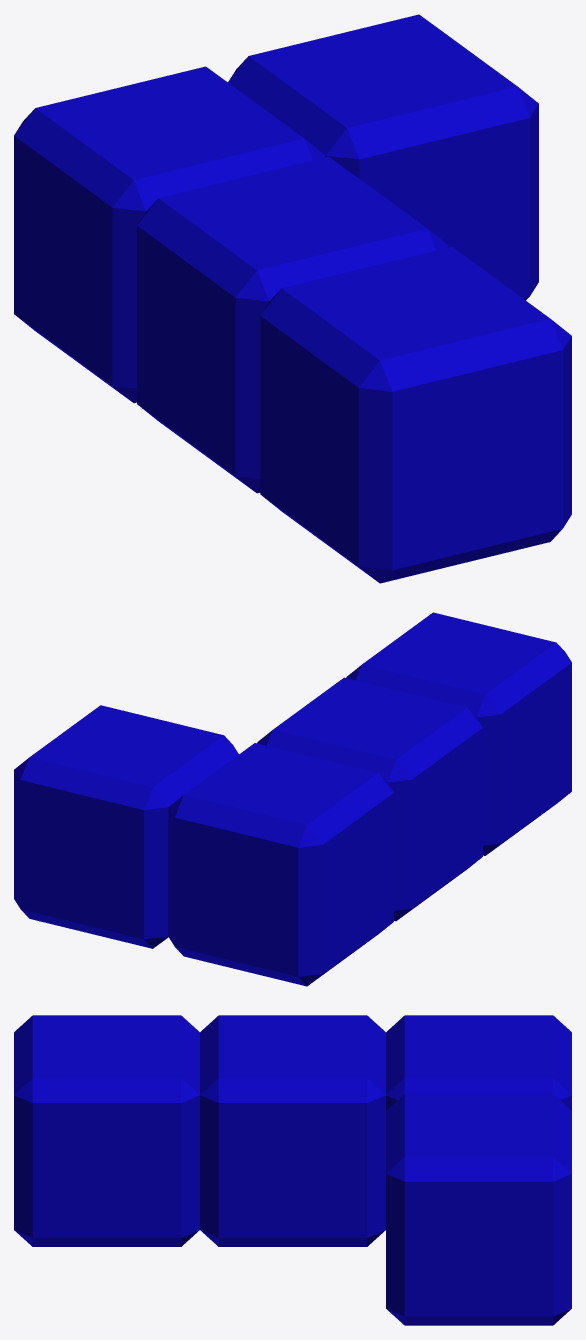
The model's file is 3d_lpiece_test.obj.
3 renders of one model, top to bottom at view 1: azimuth 30°, elevation 25°; view 2: azimuth 150°, elevation 25°; view 3: azimuth 270°, elevation 25°, orthographic. The views are drawn at different scales.
Visible parts, largest first — view 1: Cube; view 2: Cube; view 3: Cube.
Part boxes in pixels (left/top/right/bottom): Cube: left=14, top=14, right=571, bottom=583; Cube: left=14, top=612, right=571, bottom=986; Cube: left=14, top=1015, right=571, bottom=1325.
Bounding box in the file's own units: 4 × 2 × 6.
